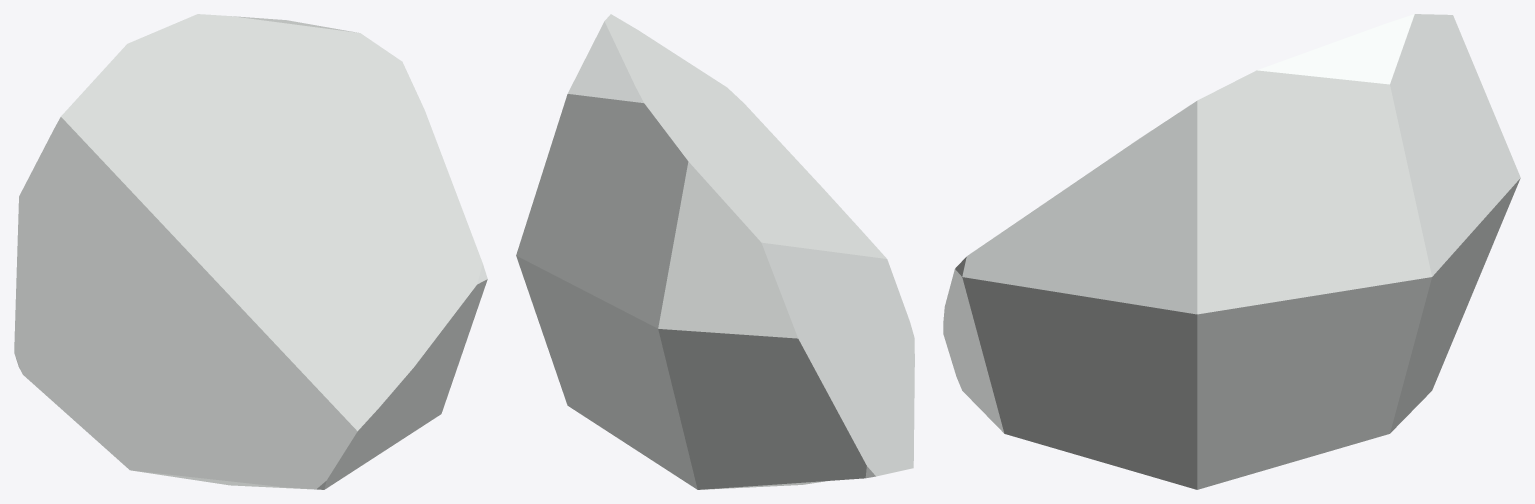
Rendered from Fragment008.fbx.
3 renders of one model, left to right at view 1: azimuth 30°, elevation 25°; view 2: azimuth 150°, elevation 25°; view 3: azimuth 270°, elevation 25°, orthographic. The views are drawn at different scales.
Parts seen in each view (by area): view 1: SatelliteFrag.008; view 2: SatelliteFrag.008; view 3: SatelliteFrag.008.
Part boxes in pixels (<box>): SatelliteFrag.008: <box>14,14,487,489</box>; SatelliteFrag.008: <box>516,14,914,489</box>; SatelliteFrag.008: <box>943,14,1520,489</box>.
Size of the model in its own units: 135 by 142 by 150.
